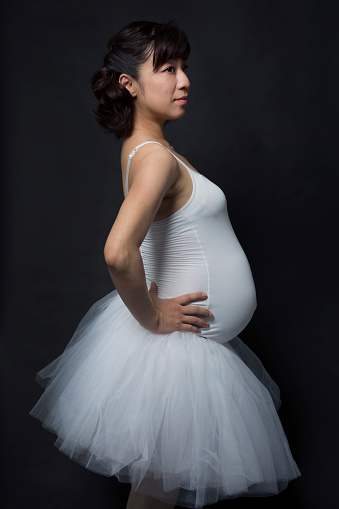em pe: (71, 6, 285, 509)
